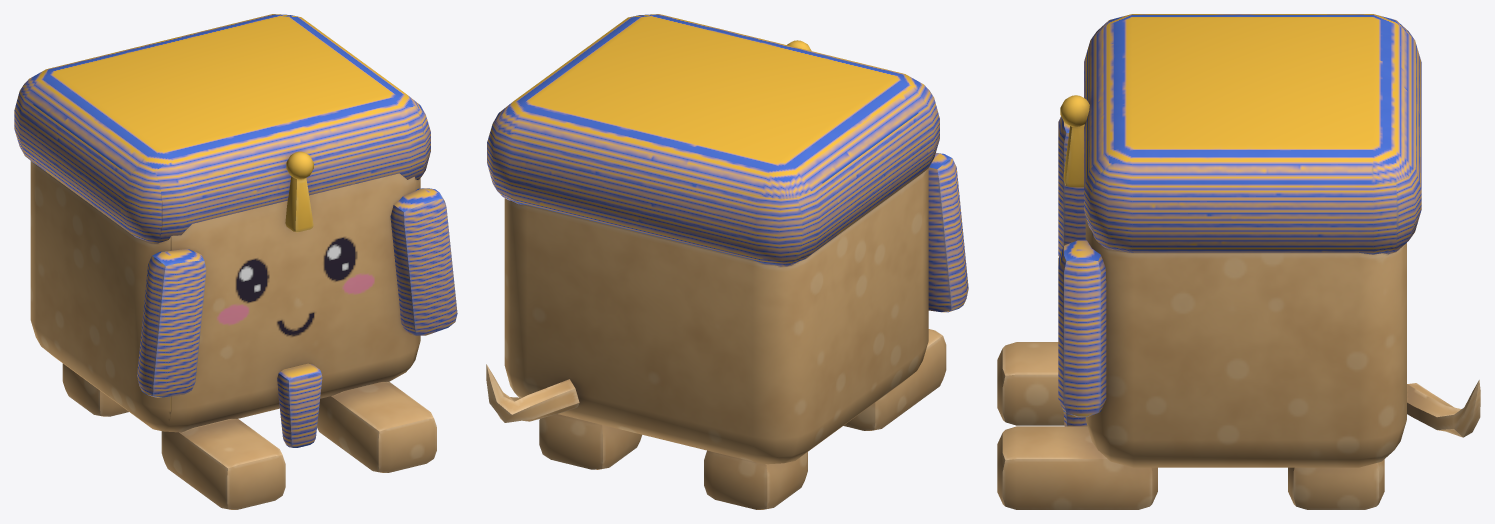
The model's file is Sphinx.fbx.
The picture shows the model from 3 angles, left to right: view 1: azimuth 30°, elevation 25°; view 2: azimuth 150°, elevation 25°; view 3: azimuth 270°, elevation 25°; orthographic projection. The views are drawn at different scales.
Parts seen in each view (by area): view 1: Sphinx; view 2: Sphinx; view 3: Sphinx.
Part boxes in pixels (box(x1,y1,x2,y2)): Sphinx: box(14, 14, 457, 509); Sphinx: box(486, 14, 968, 509); Sphinx: box(997, 14, 1480, 509).
Size of the model in its own units: 257 by 258 by 301.
Materials: 1 (1 with a texture image).
